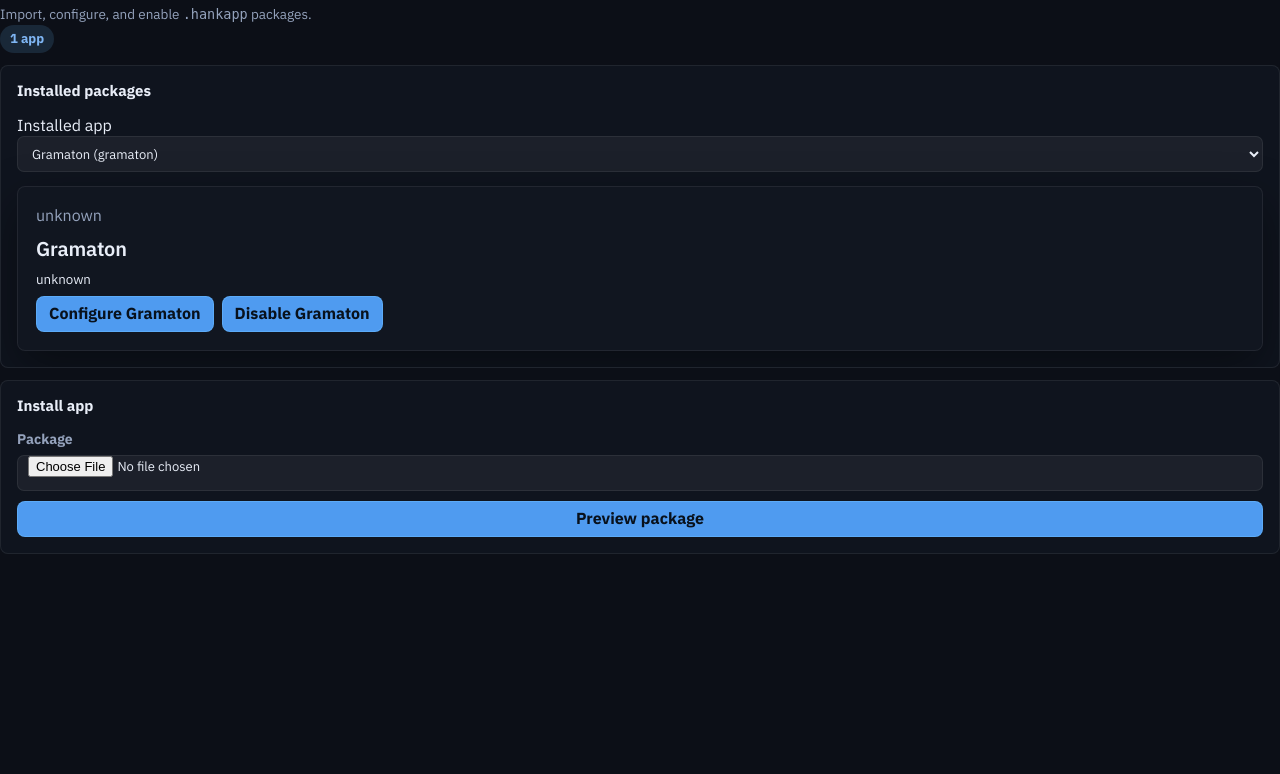
AppsSettings search targets › renders independent file sources and clears only the changed source path
Click the button "Configure Gramaton" at (125, 314), box x1=36 y1=296 x2=214 y2=332
(page scrolled)
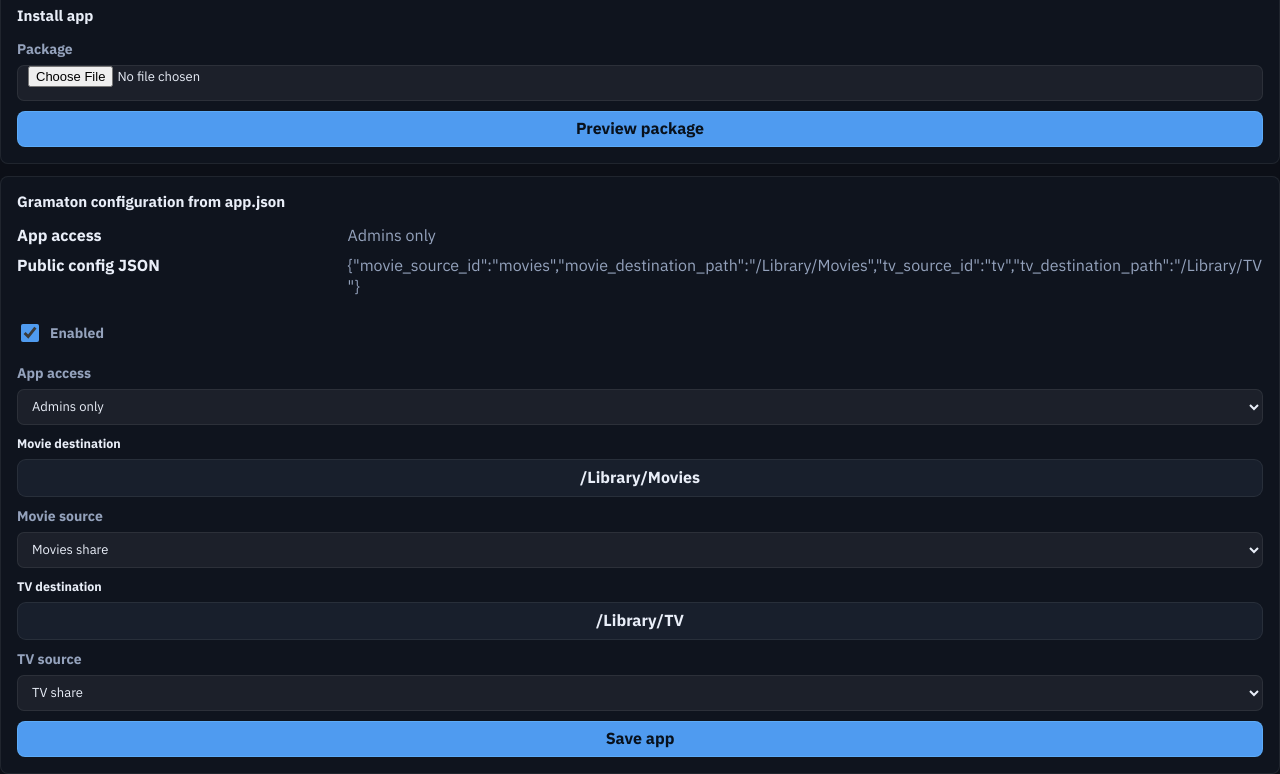
Expected: the dropdown labelled "Movie source" shows "Movies share"
Expected: the dropdown labelled "TV source" shows "TV share", x1=17 y1=675 x2=1263 y2=711
Expected: the button with aria-label "Choose Movie destination folder" reads "/Library/Movies", x1=17 y1=459 x2=1263 y2=497
Select "TV share" in the dropdown labelled "Movie source" at (640, 550), box x1=17 y1=532 x2=1263 y2=568
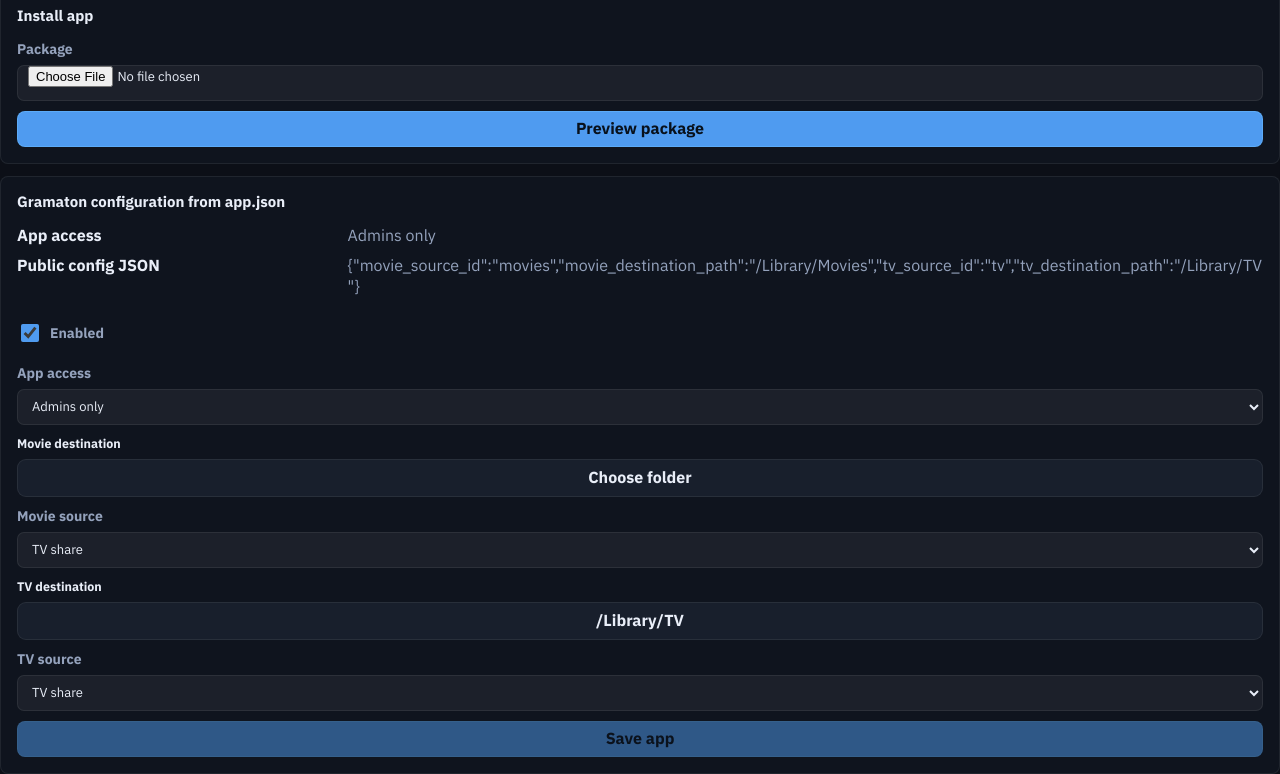
Expected: the button with aria-label "Choose TV destination folder" reads "/Library/TV", x1=17 y1=602 x2=1263 y2=640
Expected: the button with aria-label "Choose Movie destination folder" reads "Choose folder", x1=17 y1=459 x2=1263 y2=497
Expected: the button with aria-label "Save app configuration" is disabled, x1=17 y1=721 x2=1263 y2=757
